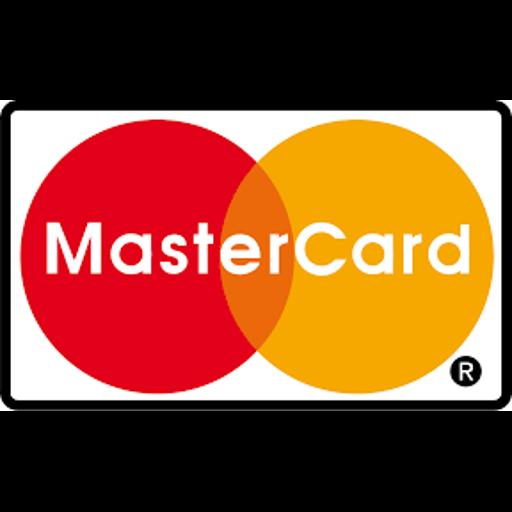Mastercard International: (0, 100, 512, 411)
